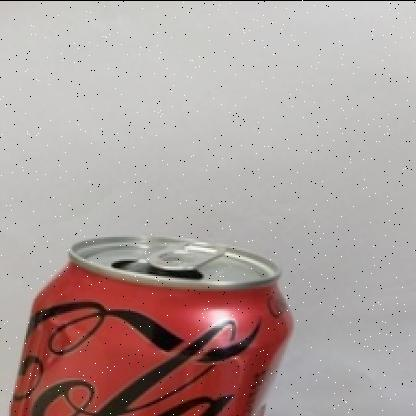Can: (10, 233, 296, 416)
